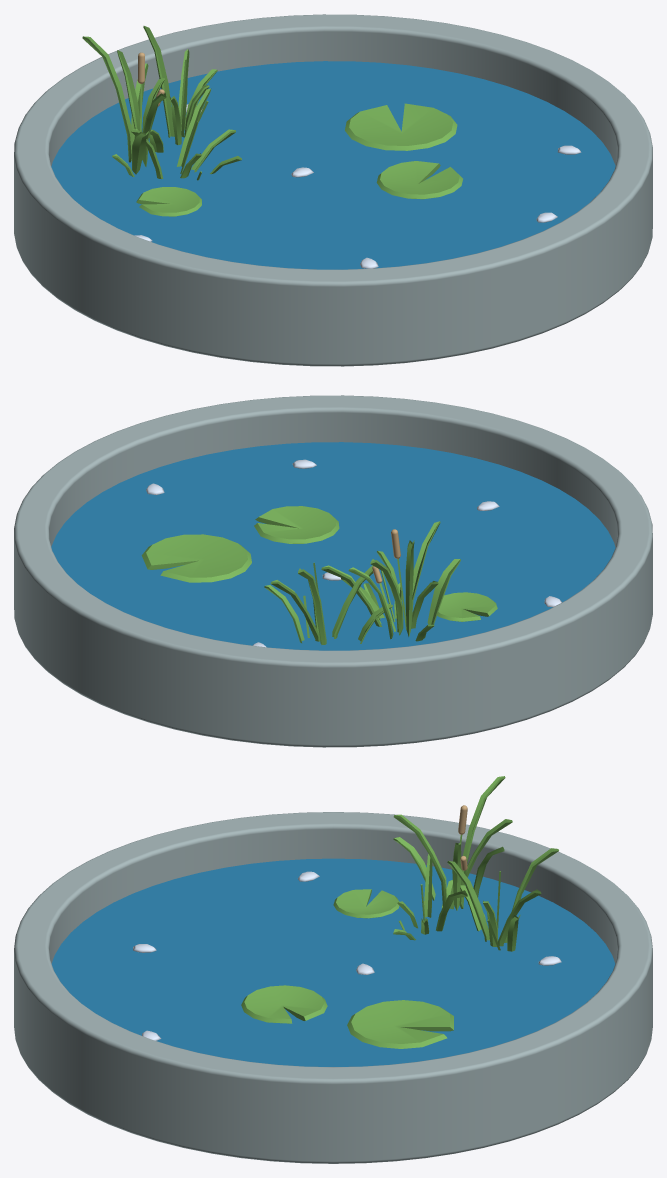
3 renders of one model, top to bottom at view 1: azimuth 30°, elevation 25°; view 2: azimuth 150°, elevation 25°; view 3: azimuth 270°, elevation 25°, orthographic.
Visible parts, largest first — view 1: Cylinder 2, Ellipse, water lily, leaf, flower; view 2: Cylinder 2, Ellipse, water lily, leaf, flower; view 3: Cylinder 2, Ellipse, water lily, leaf, flower.
Boxes of the visible parts, box(x1,y1,x2,y2) form: Cylinder 2: box(14, 14, 652, 366); Ellipse: box(51, 61, 615, 269); water lily: box(136, 103, 462, 216); leaf: box(82, 26, 241, 180); flower: box(134, 104, 581, 268); Cylinder 2: box(14, 395, 652, 747); Ellipse: box(51, 442, 615, 650); water lily: box(141, 506, 497, 621); leaf: box(264, 521, 460, 644); flower: box(146, 459, 561, 647); Cylinder 2: box(14, 812, 652, 1163); Ellipse: box(51, 858, 615, 1066); water lily: box(241, 889, 453, 1048); leaf: box(393, 776, 558, 951); flower: box(133, 871, 561, 1040).
Size of the model in its own units: 1.79 by 0.5376 by 1.79.
